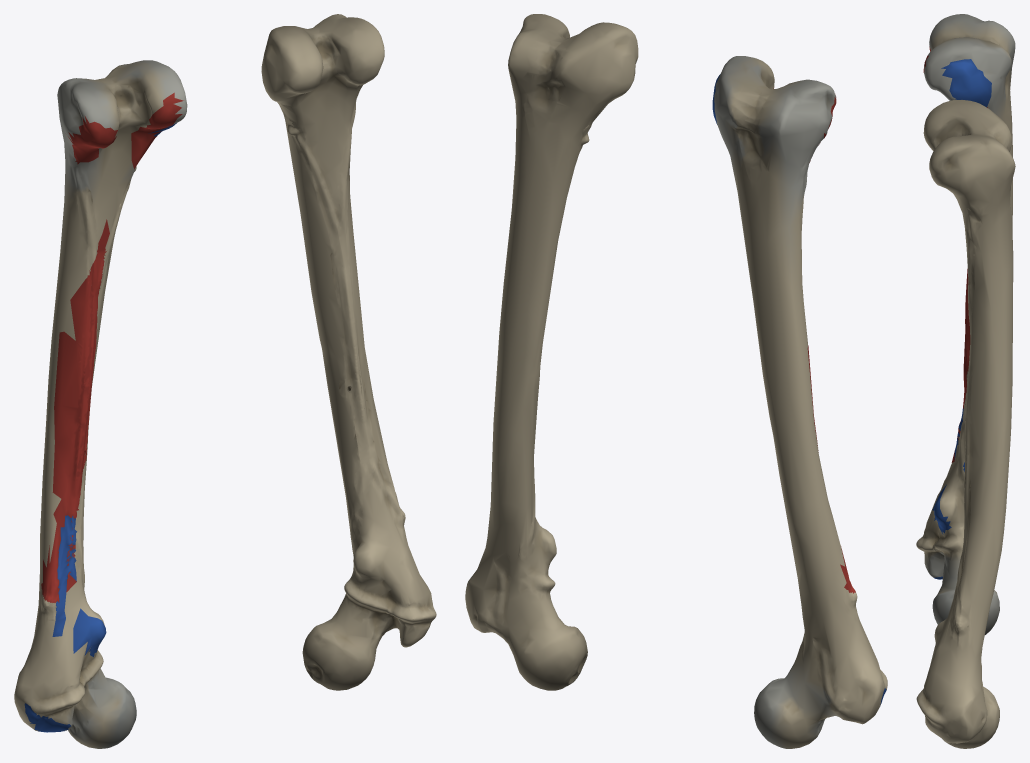
File: femur.glb
3 renders of one model, left to right at view 1: azimuth 30°, elevation 25°; view 2: azimuth 150°, elevation 25°; view 3: azimuth 270°, elevation 25°, orthographic. The views are drawn at different scales.
Visible parts, largest first — view 1: FJ3259, FJ3365, origo__linea-aspera__FJ1442, femur__condylus-lateralis-patellaris, femur__caput-collum, origo__linea-aspera__FJ1444, insertio__tuberositas-glutea-pectinea__FJ1418, origo__condylus-medialis-adductorium__FJ1397, origo__condylus-lateralis-patellaris__FJ1394, insertio__trochanter-minor__FJ1431, femur__condylus-medialis-adductorium, femur__tuberositas-glutea-pectinea (+1 smaller); view 2: FJ3259, FJ3365, femur__condylus-lateralis-patellaris, femur__caput-collum, femur__condylus-medialis-adductorium, femur__trochanter-major; view 3: FJ3259, FJ3365, femur__condylus-medialis-adductorium, femur__caput-collum, insertio__condylus-medialis-adductorium__FJ1403, femur__condylus-lateralis-patellaris, origo__linea-aspera__FJ1444, insertio__trochanter-minor__FJ1431, femur__tuberositas-glutea-pectinea, origo__linea-aspera__FJ1442.
Boxes of the visible parts, bbox=[...] form: FJ3259: bbox=[261, 14, 436, 690]; FJ3365: bbox=[19, 62, 163, 748]; origo__linea-aspera__FJ1442: bbox=[41, 264, 93, 602]; femur__condylus-lateralis-patellaris: bbox=[57, 78, 114, 199]; femur__caput-collum: bbox=[67, 668, 136, 748]; origo__linea-aspera__FJ1444: bbox=[74, 219, 109, 476]; insertio__tuberositas-glutea-pectinea__FJ1418: bbox=[52, 515, 76, 636]; origo__condylus-medialis-adductorium__FJ1397: bbox=[131, 92, 183, 169]; origo__condylus-lateralis-patellaris__FJ1394: bbox=[68, 116, 117, 164]; insertio__trochanter-minor__FJ1431: bbox=[73, 608, 106, 656]; femur__condylus-medialis-adductorium: bbox=[121, 60, 187, 180]; femur__tuberositas-glutea-pectinea: bbox=[41, 489, 84, 636]; FJ3259: bbox=[465, 14, 638, 690]; FJ3365: bbox=[729, 57, 885, 748]; femur__condylus-lateralis-patellaris: bbox=[759, 79, 835, 228]; femur__caput-collum: bbox=[754, 663, 839, 748]; femur__condylus-medialis-adductorium: bbox=[714, 56, 758, 191]; femur__trochanter-major: bbox=[829, 665, 887, 724]; FJ3259: bbox=[916, 100, 1015, 748]; FJ3365: bbox=[916, 25, 1012, 596]; femur__condylus-medialis-adductorium: bbox=[924, 38, 1011, 118]; femur__caput-collum: bbox=[924, 552, 999, 634]; insertio__condylus-medialis-adductorium__FJ1403: bbox=[941, 59, 991, 107]; femur__condylus-lateralis-patellaris: bbox=[929, 14, 1015, 78]; origo__linea-aspera__FJ1444: bbox=[963, 269, 970, 371]; insertio__trochanter-minor__FJ1431: bbox=[932, 484, 951, 534]; femur__tuberositas-glutea-pectinea: bbox=[958, 393, 966, 477]; origo__linea-aspera__FJ1442: bbox=[951, 285, 967, 462].
Bounding box in the file's own units: 300 × 466 × 67.56.
